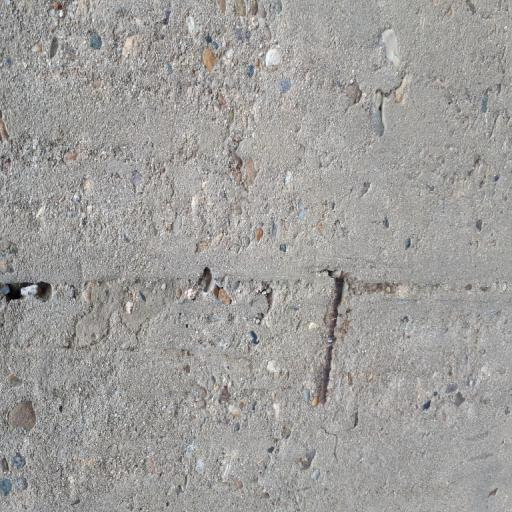exposed_rebar: (319, 276, 344, 404)
